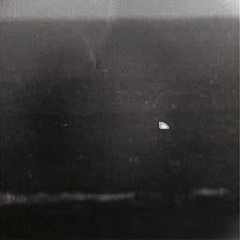Target: (158, 121, 171, 129)
